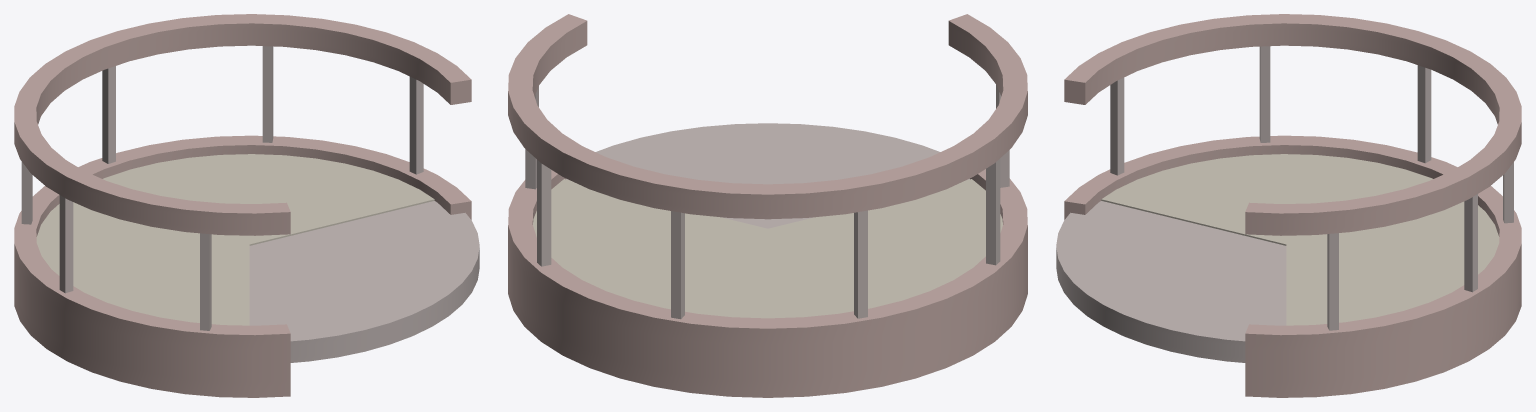
Rendered from platform.glb.
The picture shows the model from 3 angles, left to right: view 1: azimuth 30°, elevation 25°; view 2: azimuth 150°, elevation 25°; view 3: azimuth 270°, elevation 25°; orthographic projection. The views are drawn at different scales.
Parts seen in each view (by area): view 1: Tube.1, Tube.2, Tube, Tube.3, Cube 5, Cube 1, Cube 3, Cube 0, Cube 4, Cube 2; view 2: Tube.2, Tube.1, Tube.3, Tube, Cube 1, Cube 4, Cube 2, Cube 3, Cube 5; view 3: Tube.1, Tube.2, Tube, Tube.3, Cube 2, Cube 0, Cube 4, Cube 5, Cube 1, Cube 3.
Boxes of the visible parts, <box> form: Tube.1: <box>36,154,434,325</box>; Tube.2: <box>14,135,471,397</box>; Tube: <box>249,201,479,362</box>; Tube.3: <box>14,14,471,235</box>; Cube 5: <box>409,77,423,174</box>; Cube 1: <box>59,195,73,293</box>; Cube 3: <box>102,66,115,163</box>; Cube 0: <box>200,233,211,330</box>; Cube 4: <box>262,46,273,142</box>; Cube 2: <box>21,162,32,224</box>; Tube.2: <box>508,169,1027,397</box>; Tube.1: <box>533,179,1002,318</box>; Tube.3: <box>508,14,1027,219</box>; Tube: <box>566,123,969,228</box>; Cube 1: <box>986,158,1000,265</box>; Cube 4: <box>537,160,551,266</box>; Cube 2: <box>854,210,867,318</box>; Cube 3: <box>671,211,684,319</box>; Cube 5: <box>525,86,538,189</box>; Tube.1: <box>1101,154,1499,325</box>; Tube.2: <box>1064,135,1521,397</box>; Tube: <box>1056,201,1286,362</box>; Tube.3: <box>1064,14,1521,235</box>; Cube 2: <box>1417,65,1431,163</box>; Cube 0: <box>1110,77,1124,175</box>; Cube 4: <box>1464,194,1477,292</box>; Cube 5: <box>1327,233,1338,330</box>; Cube 1: <box>1259,46,1270,142</box>; Cube 3: <box>1503,162,1513,223</box>.
Bounding box in the file's own units: 515 × 222 × 507.
